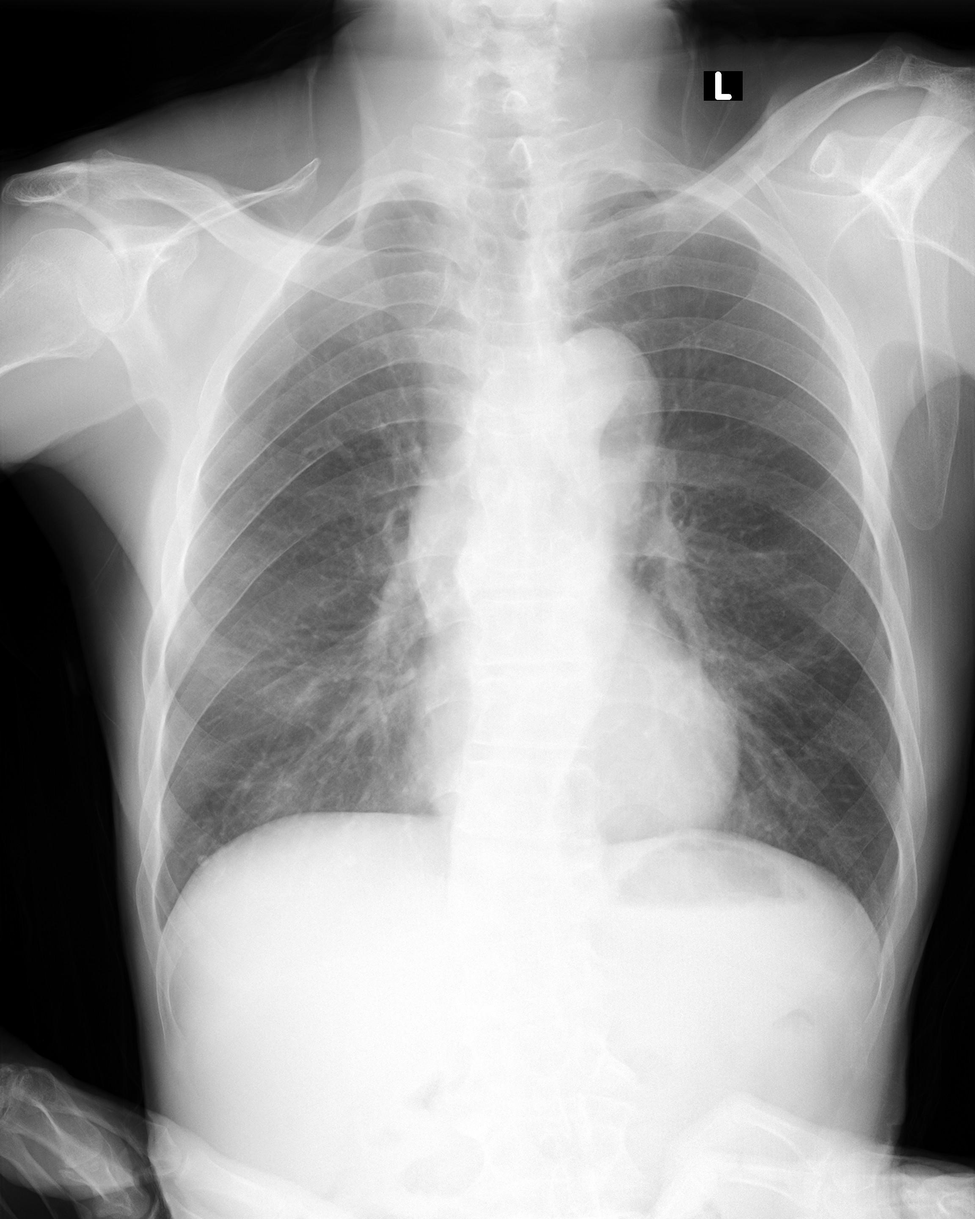Aortic enlargement: (533, 320, 654, 494)
